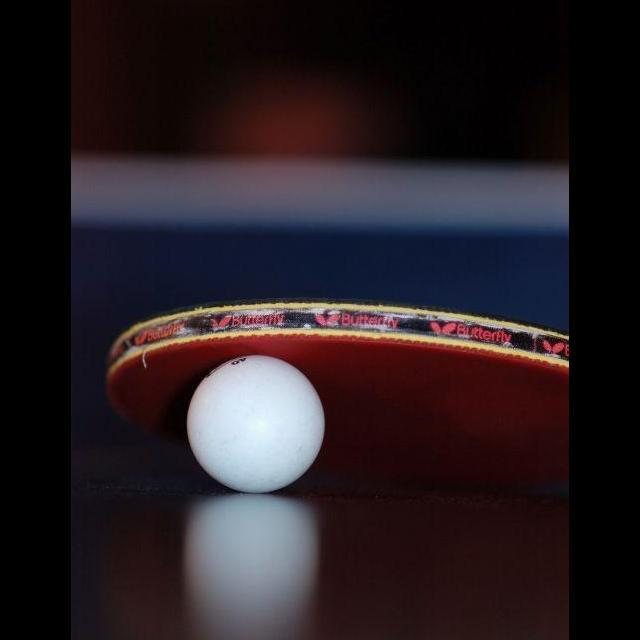ping-pong-ball: (185, 354, 332, 496)
